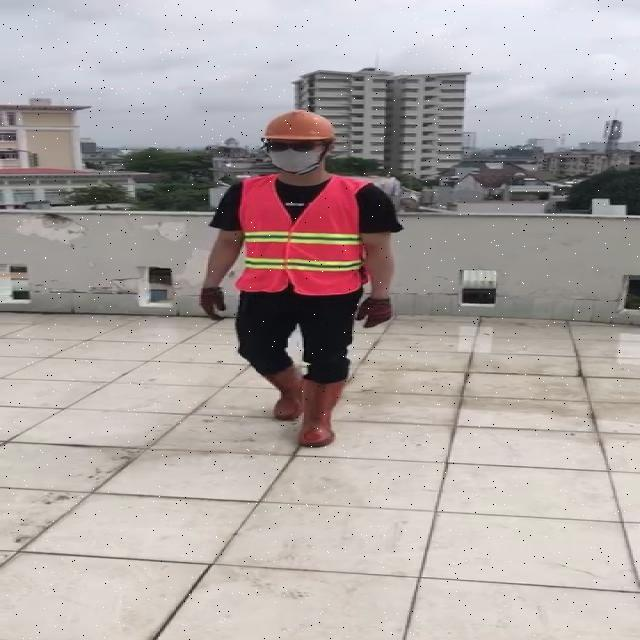Hard_hat: (257, 108, 340, 154)
Person: (194, 110, 415, 445)
Vest: (234, 170, 364, 297)
